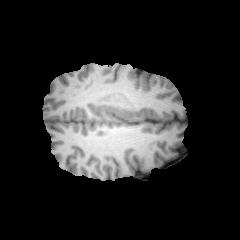glioma: (90, 92, 135, 121)
